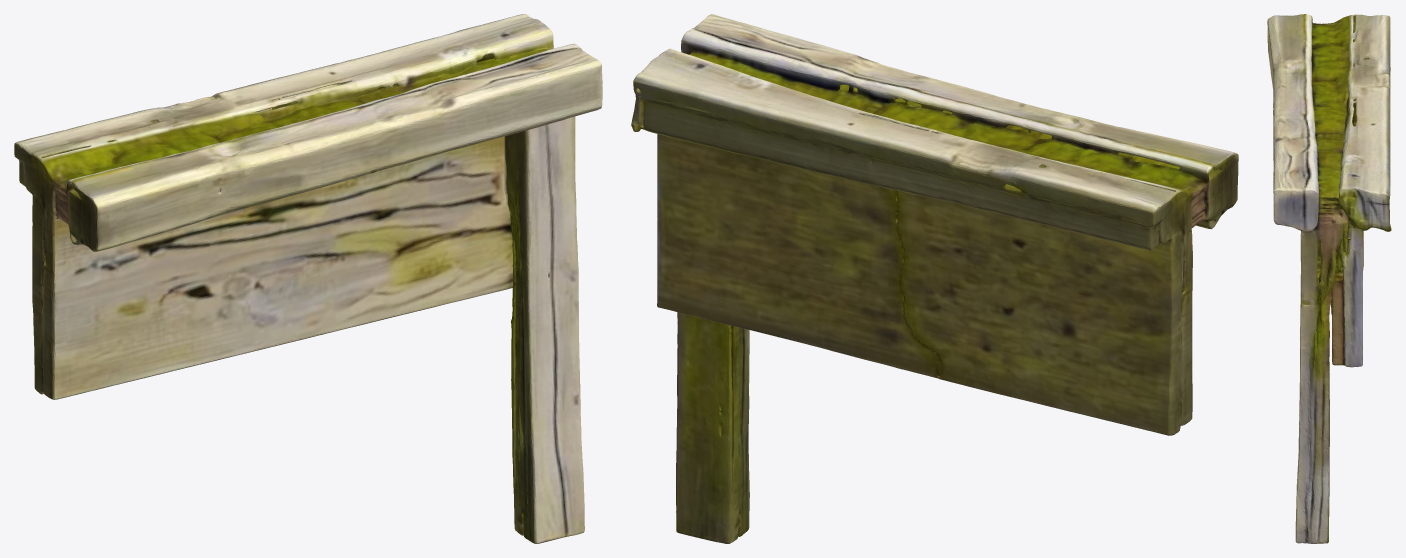
File: fen_boardwalk_01.glb
3 views of the same model, side by side, from view 1: azimuth 30°, elevation 25°; view 2: azimuth 150°, elevation 25°; view 3: azimuth 270°, elevation 25° (orthographic). The views are drawn at different scales.
Parts seen in each view (by area): view 1: geometry_0; view 2: geometry_0; view 3: geometry_0.
Part boxes in pixels (bbox=[...]): geometry_0: bbox=[14, 14, 602, 543]; geometry_0: bbox=[631, 14, 1238, 543]; geometry_0: bbox=[1267, 14, 1391, 543].
Bounding box in the file's own units: 1 × 0.9015 × 0.2854.
Materials: 1 (1 with a texture image).
